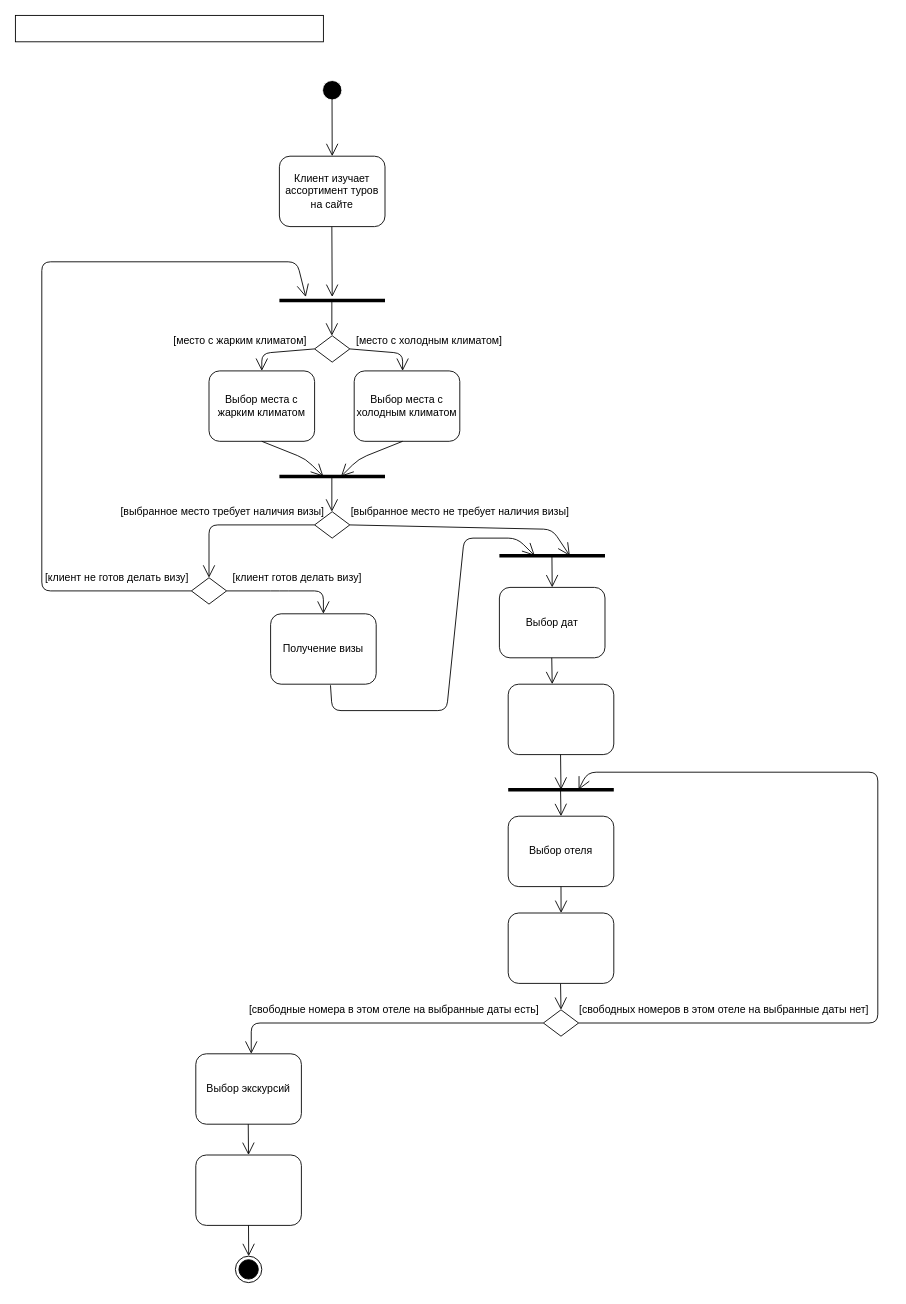
The diagram is 906 pixels wide and 1304 high, and some of its shapes have lost their labels. The shapes that lost their labels are listed below. From the top down, each one's centre as x and y in pixels, then its label:
point (169, 28): < activity > Выбор тура клиентом
point (560, 719): Выбор категории отеля
point (560, 947): Выбор категории номера
point (248, 1189): Покупка тура
